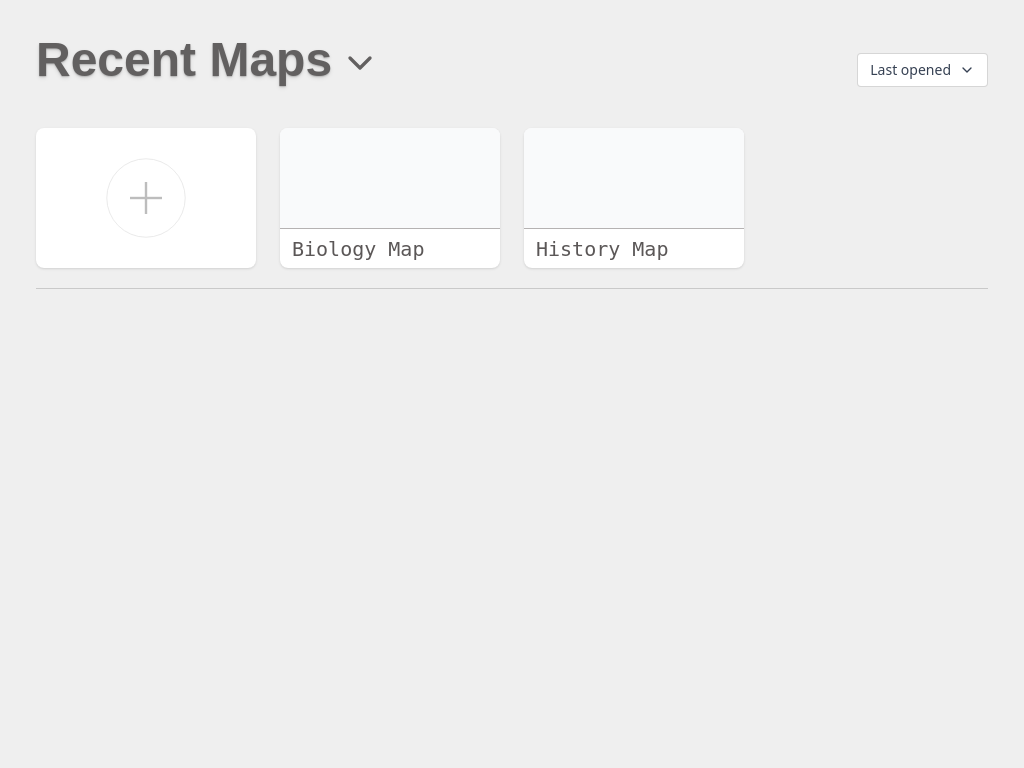
RecentMaps Component - UI Integration Tests › should open the MapCreator modal when the add button is clicked
Click the button named "Create new map" at (146, 198), box 36,128 -> 256,268
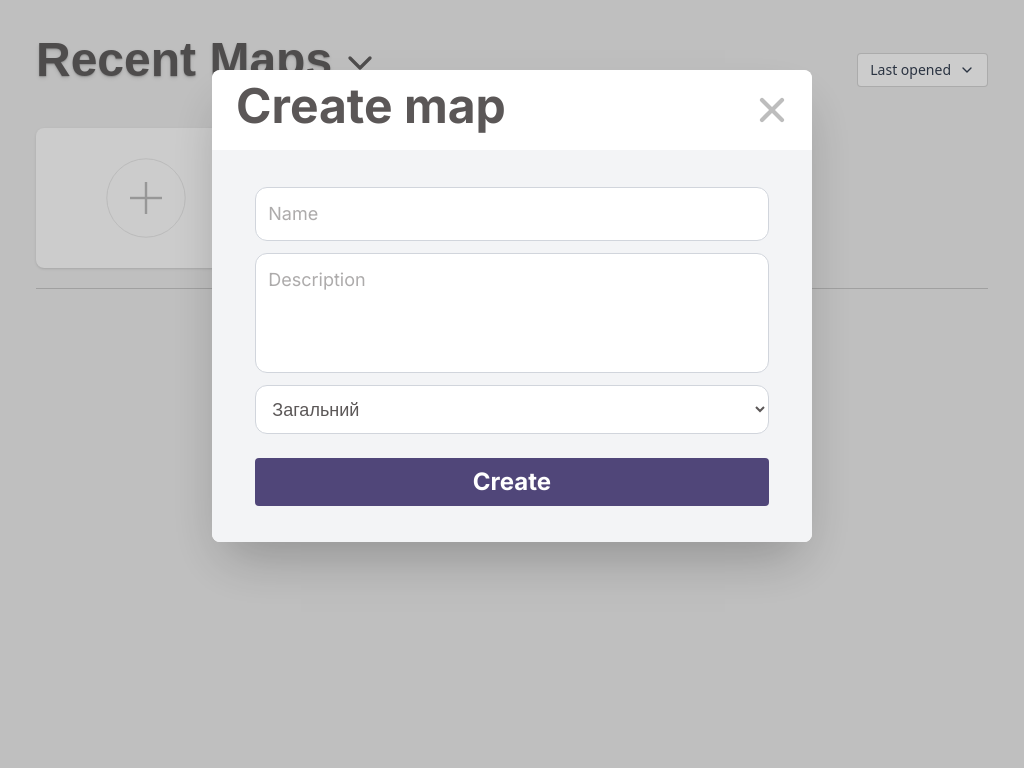
Expected: the heading "Create map" is shown, 224,82 -> 506,138
